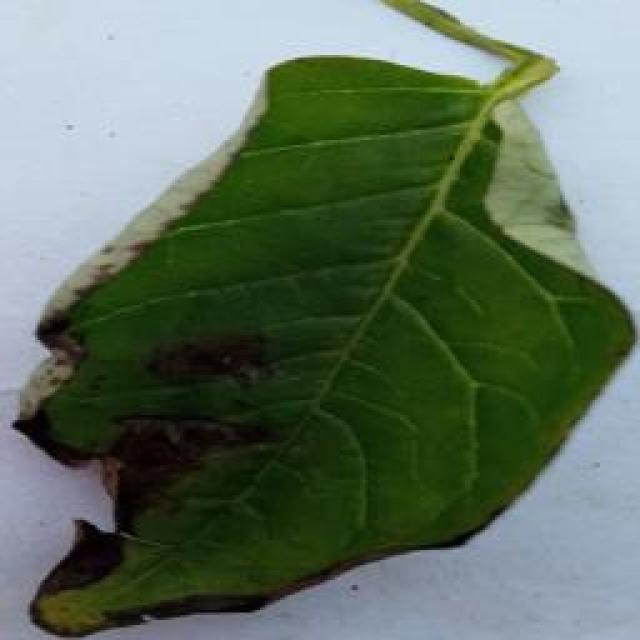Potato_Late_Blight: (14, 6, 623, 635)
